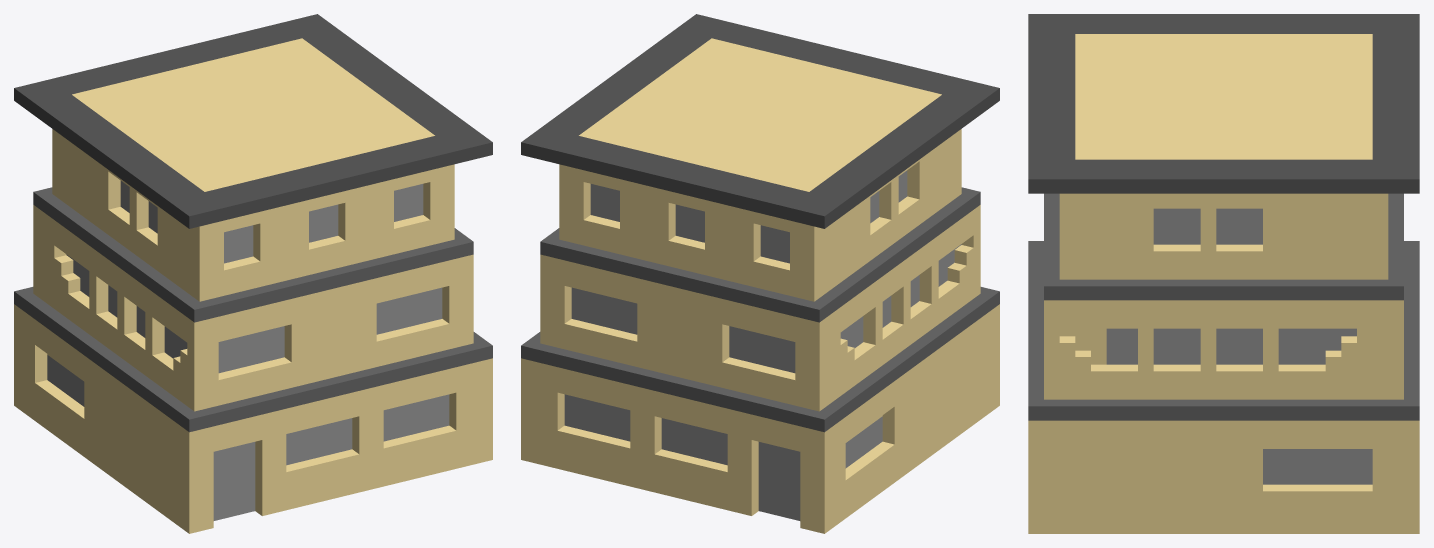
File: twelvethModel.fbx
3 renders of one model, left to right at view 1: azimuth 30°, elevation 25°; view 2: azimuth 150°, elevation 25°; view 3: azimuth 270°, elevation 25°, orthographic. The views are drawn at different scales.
Visible parts, largest first — view 1: Box; view 2: Box; view 3: Box.
Boxes of the visible parts, bbox=[...] form: Box: bbox=[14, 14, 492, 533]; Box: bbox=[521, 14, 999, 533]; Box: bbox=[1028, 14, 1419, 533].
Bounding box in the file's own units: 25 × 25 × 25.
1 material, 1 textured.
